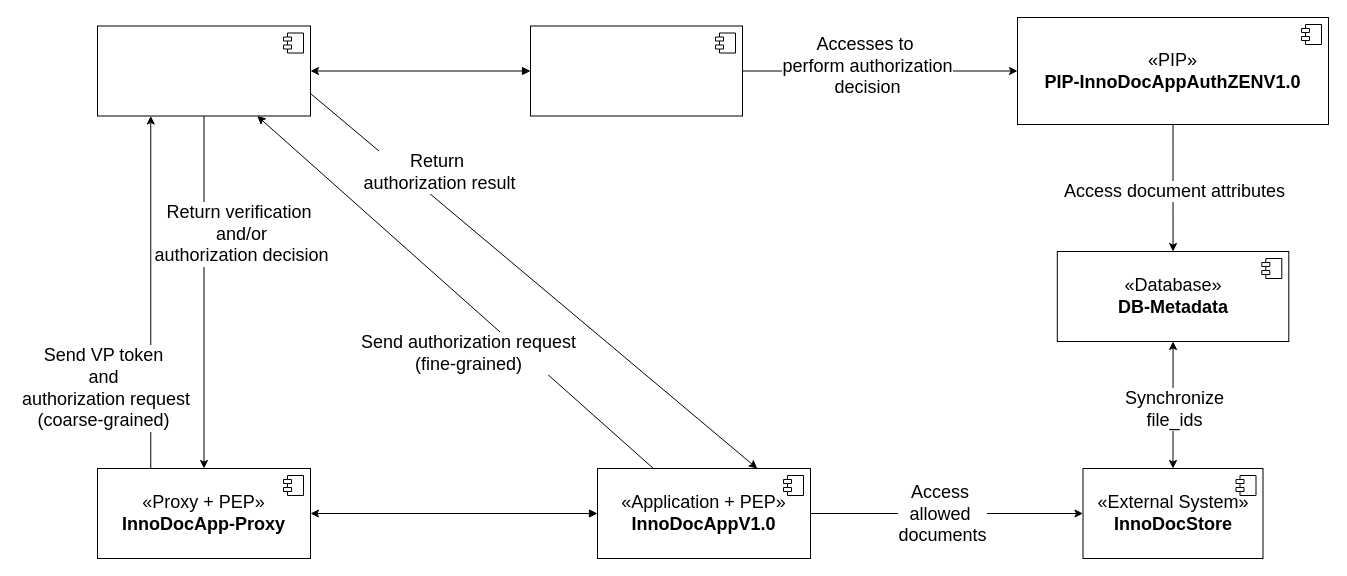
This 1347x576 diagram has some shape labels left out. The shapes that lost their labels are listed below. From the top down, each one's centre as x and y in pixels, then its label:
the point at 203,70: «Proxy» OPA-Proxy
the point at 636,70: «PDP» Open Policy Agent (OPA)
